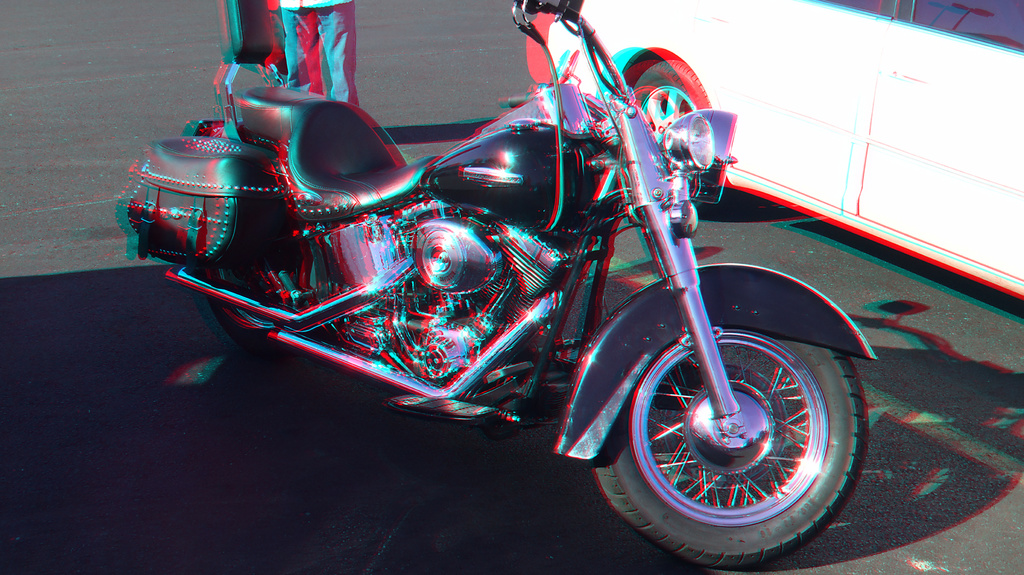Motorcycle: (128, 0, 876, 567)
